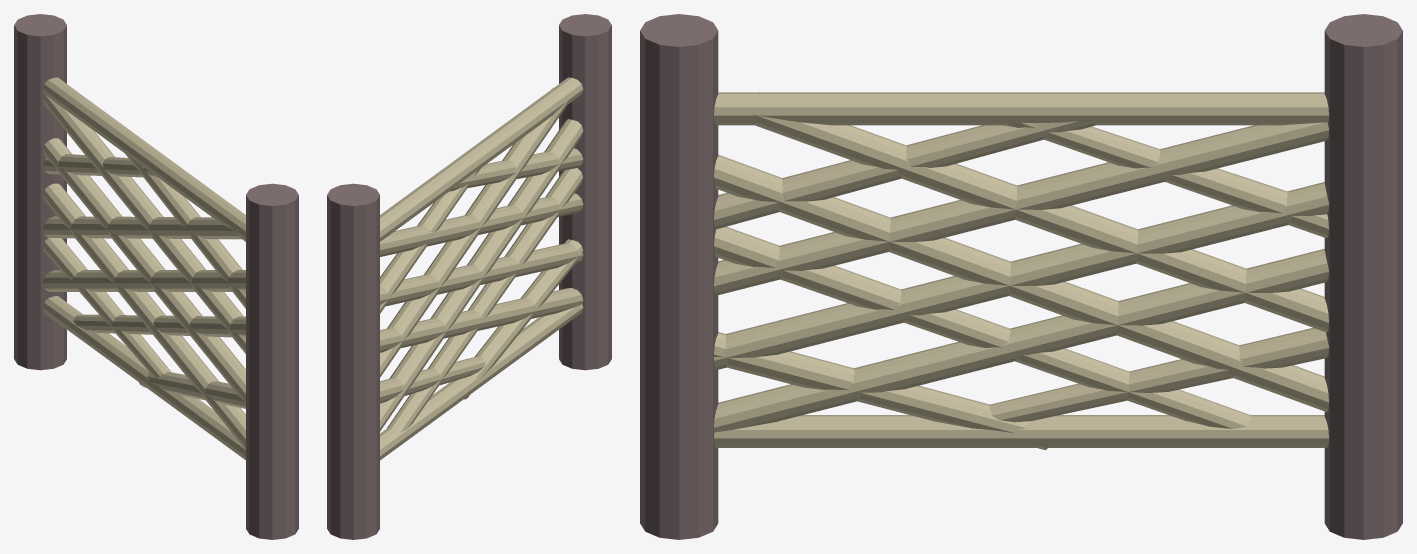
File: fence1.fbx
3 views of the same model, side by side, from view 1: azimuth 30°, elevation 25°; view 2: azimuth 150°, elevation 25°; view 3: azimuth 270°, elevation 25° (orthographic). The views are drawn at different scales.
Visible parts, largest first — view 1: Cylinder.003; view 2: Cylinder.003; view 3: Cylinder.003.
Part boxes in pixels (box(x1,y1,x2,y2)): Cylinder.003: box(14, 14, 298, 539); Cylinder.003: box(327, 14, 611, 539); Cylinder.003: box(640, 14, 1402, 539).
Size of the model in its own units: 42.5 by 295 by 414.
